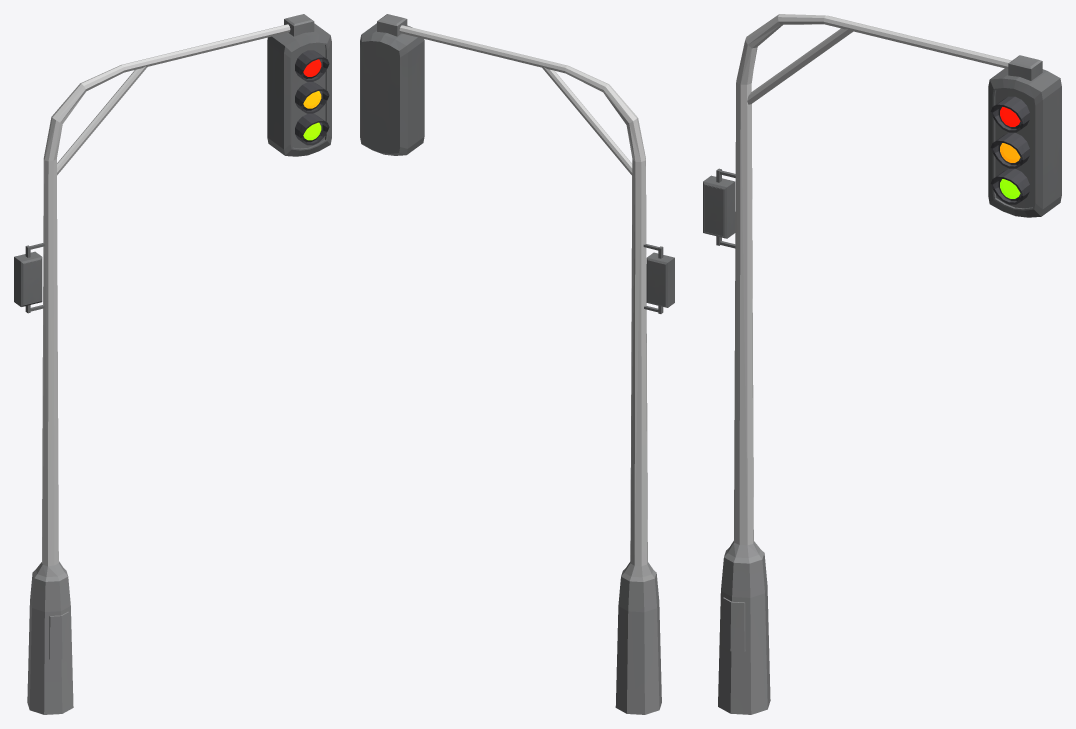
Rendered from trafficlight1.glb.
3 renders of one model, left to right at view 1: azimuth 30°, elevation 25°; view 2: azimuth 150°, elevation 25°; view 3: azimuth 330°, elevation 25°, orthographic. The views are drawn at different scales.
Parts seen in each view (by area): view 1: trafficlight; view 2: trafficlight; view 3: trafficlight.
Boxes of the visible parts, x1,y1,x2,y2 form: trafficlight: [14, 14, 331, 714]; trafficlight: [360, 14, 674, 714]; trafficlight: [703, 14, 1061, 714].
Bounding box in the file's own units: 1 × 1.97 × 0.1813.
4 materials, 1 textured.
